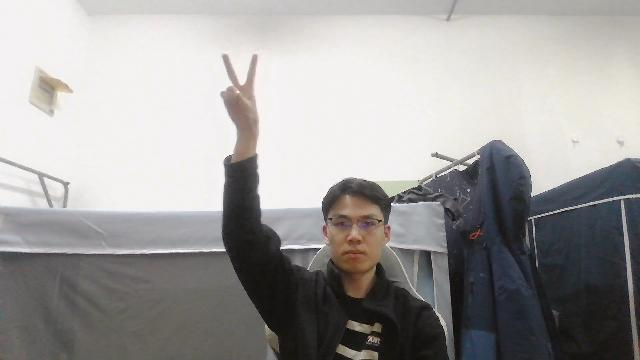yes: (217, 47, 265, 144)
